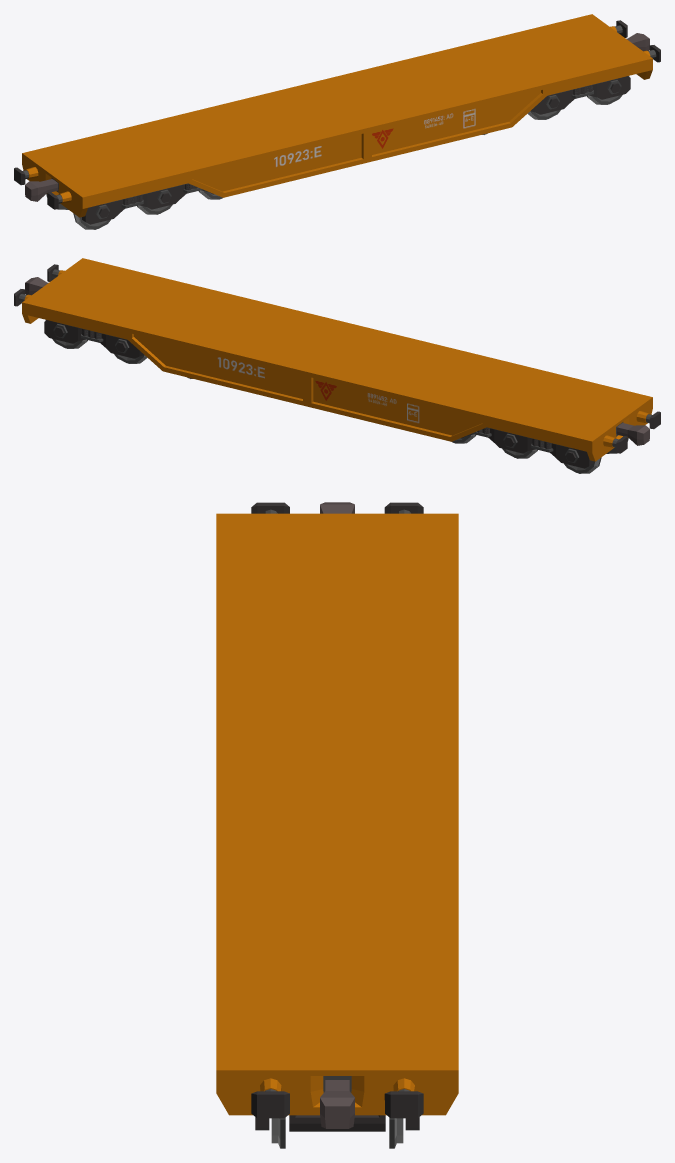
Rendered from train-chassis-orange.glb.
3 views of the same model, one above another, from view 1: azimuth 30°, elevation 25°; view 2: azimuth 150°, elevation 25°; view 3: azimuth 270°, elevation 25° (orthographic). The views are drawn at different scales.
Visible parts, largest first — view 1: Base_A, DriveTruck.001, DriveTruck.002; view 2: Base_A, DriveTruck.001, DriveTruck.002; view 3: Base_A, DriveTruck.002.
Part boxes in pixels (x1,y1,x2,y2): Base_A: (14,14,660,217); DriveTruck.001: (46,183,222,229); DriveTruck.002: (482,76,630,134); Base_A: (14,258,660,461); DriveTruck.001: (452,427,628,473); DriveTruck.002: (44,320,192,378); Base_A: (216,502,458,1128); DriveTruck.002: (255,1115,419,1148).
Size of the model in its own units: 17.69 by 1.4 by 3.
Materials: 3 (3 with a texture image).
